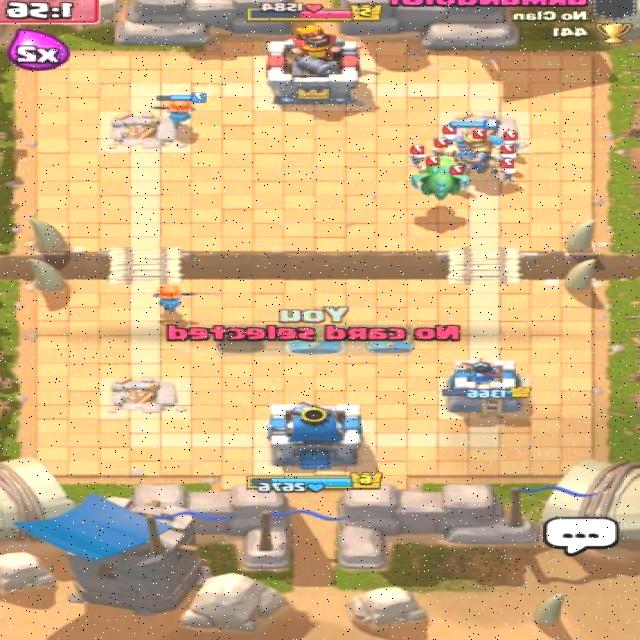Enemy-Skeleton: (494, 130, 528, 157), (491, 157, 525, 184), (433, 124, 462, 153), (415, 155, 448, 178), (494, 143, 524, 168), (404, 144, 432, 169), (428, 139, 458, 162)
Player-BabyDragon: (408, 166, 476, 203)
Player-Prince: (435, 118, 506, 177)
Player-Valkyrie: (151, 90, 205, 129), (149, 281, 191, 314)
